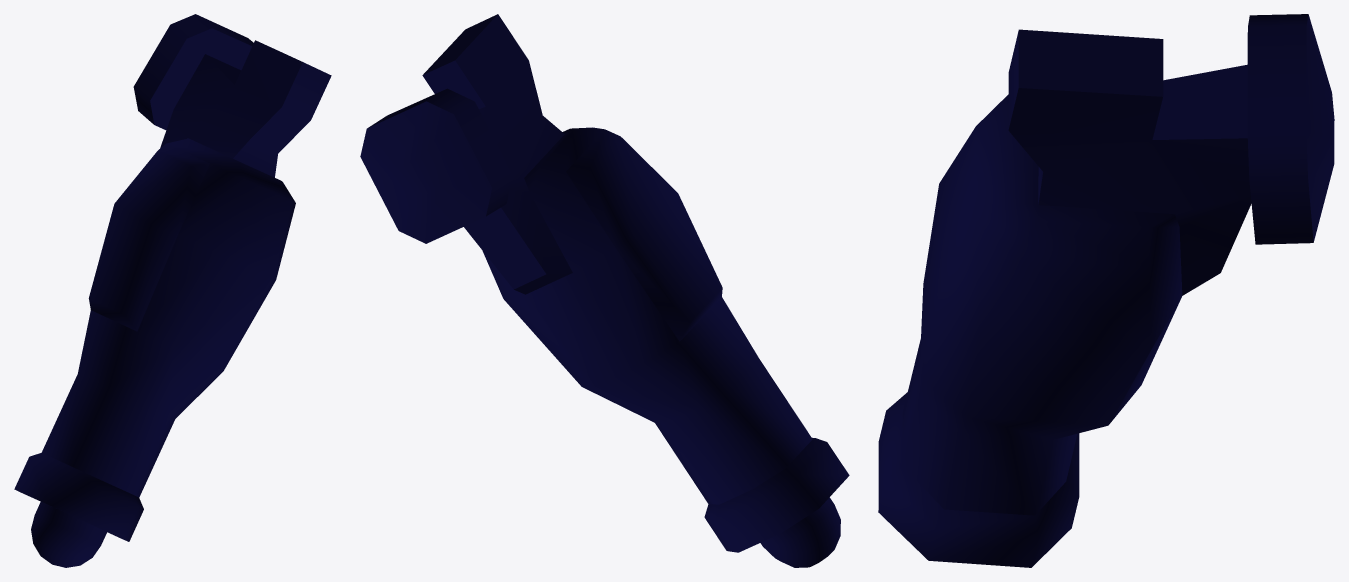
The model's file is left_down_arm.obj.
3 renders of one model, left to right at view 1: azimuth 30°, elevation 25°; view 2: azimuth 150°, elevation 25°; view 3: azimuth 270°, elevation 25°, orthographic. The views are drawn at different scales.
Visible parts, largest first — view 1: left_front_arm; view 2: left_front_arm; view 3: left_front_arm.
Part boxes in pixels (x1,y1,x2,y2): left_front_arm: (14,14,331,567); left_front_arm: (360,14,849,567); left_front_arm: (878,14,1334,567).
Bounding box in the file's own units: 1.13 × 1.45 × 0.8237.
